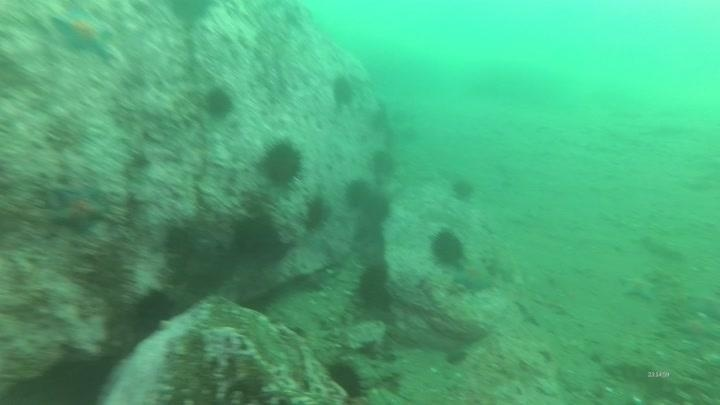echinus: (230, 212, 284, 264), (128, 287, 178, 339), (258, 138, 306, 188), (352, 260, 394, 313), (323, 357, 369, 401), (428, 227, 467, 269), (165, 1, 219, 27), (201, 85, 236, 120), (301, 193, 332, 232), (360, 190, 393, 226), (342, 177, 374, 211), (329, 73, 358, 109), (367, 147, 399, 179), (448, 175, 477, 202)
holothurian: (600, 357, 681, 387), (639, 233, 686, 259)
starfish: (49, 7, 117, 62), (45, 183, 111, 236), (620, 260, 659, 303), (451, 261, 496, 293), (674, 314, 720, 344), (512, 298, 543, 329)
